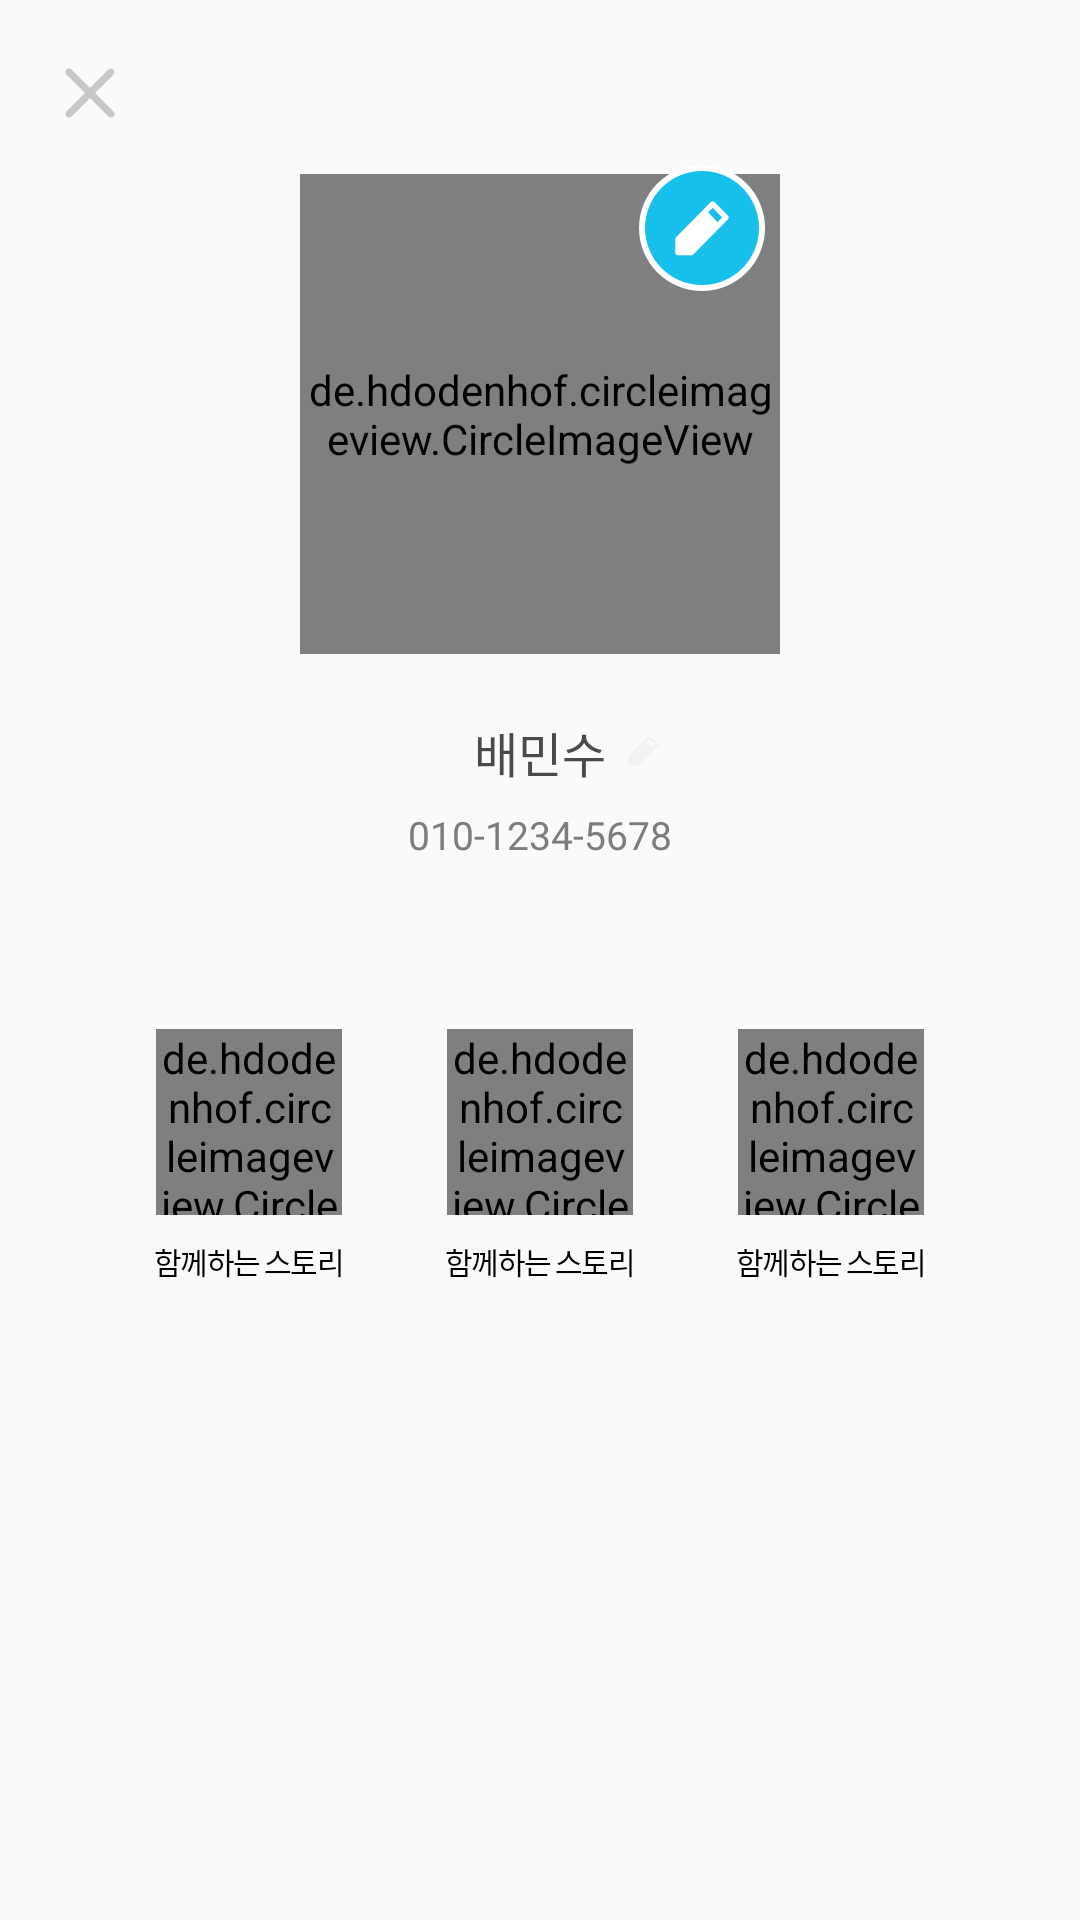

Icon click points for this 1080 x 1920 phone screenshot, format [x,y]:
friend detail close: [90,93]
profile edit: [702,228]
